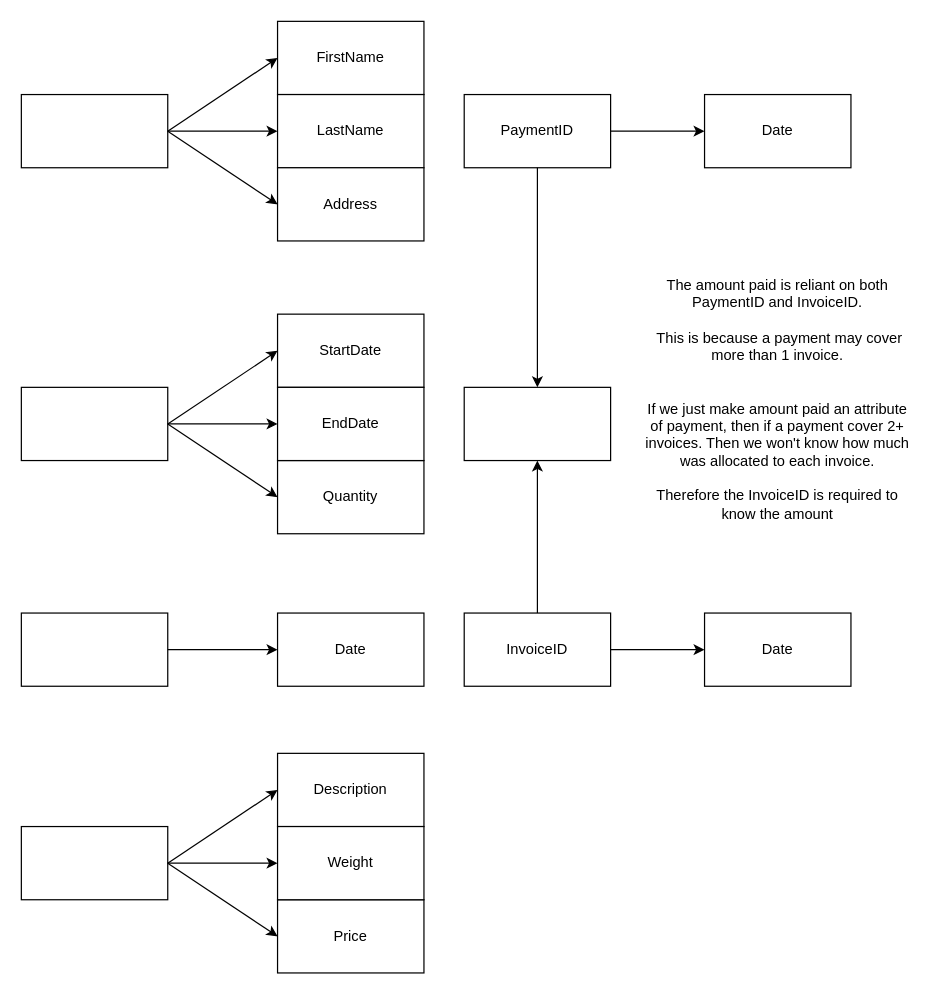
The diagram is 933 pixels wide and 994 high, and some of its shapes have lost their labels. Here are the shapes that lost their labels. From the top down, the box of each, then its label:
(20, 93, 168, 168): CustomerID
(20, 386, 168, 461): OrderID
(463, 386, 611, 461): Amount
(20, 612, 168, 686): DeliveryID
(20, 825, 168, 900): ItemID
